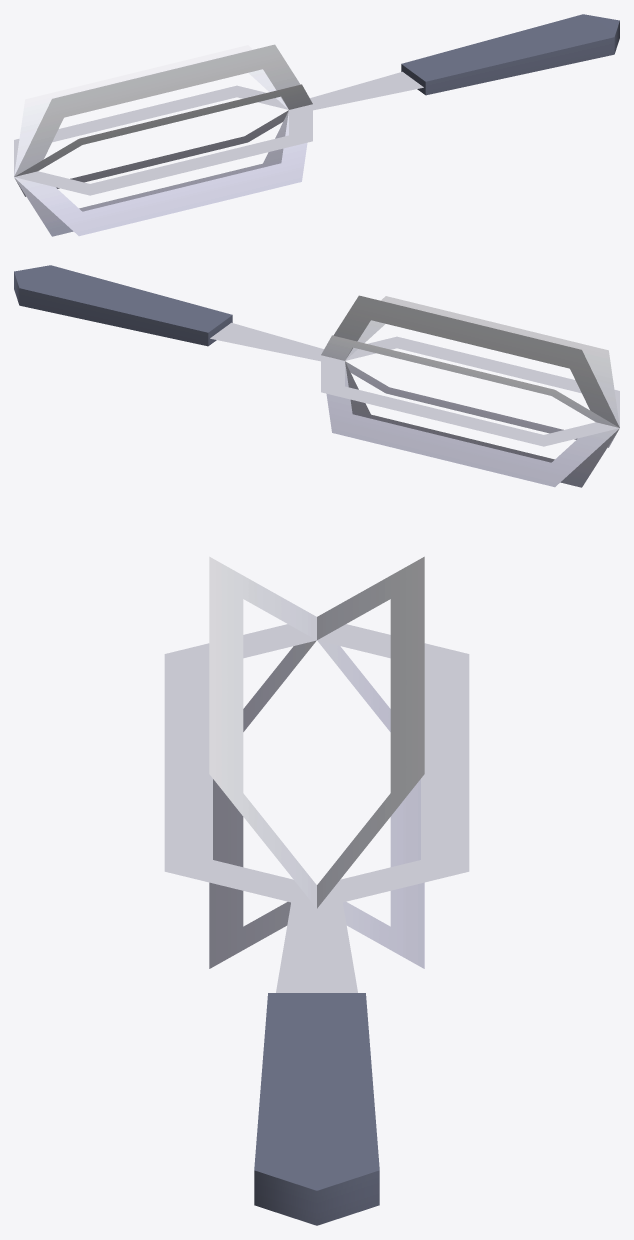
File: visp.glb
3 renders of one model, top to bottom at view 1: azimuth 30°, elevation 25°; view 2: azimuth 150°, elevation 25°; view 3: azimuth 270°, elevation 25°, orthographic. The views are drawn at different scales.
Parts seen in each view (by area): view 1: whisk; view 2: whisk; view 3: whisk.
Boxes of the visible parts, x1=… form: whisk: x1=14, y1=14, x2=619, y2=236; whisk: x1=14, y1=265, x2=619, y2=487; whisk: x1=164, y1=556, x2=469, y2=1225.
Size of the model in its own units: 0.7244 by 0.1576 by 0.1576.
1 material, 1 textured.
